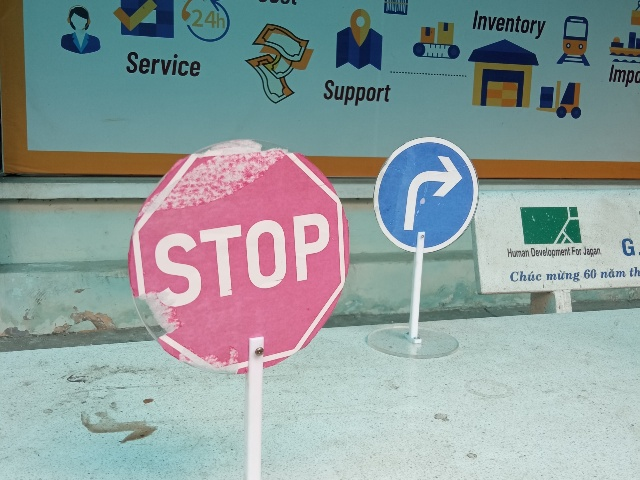Right_Sign: (372, 136, 478, 254)
Stop_Sign: (131, 139, 351, 375)
